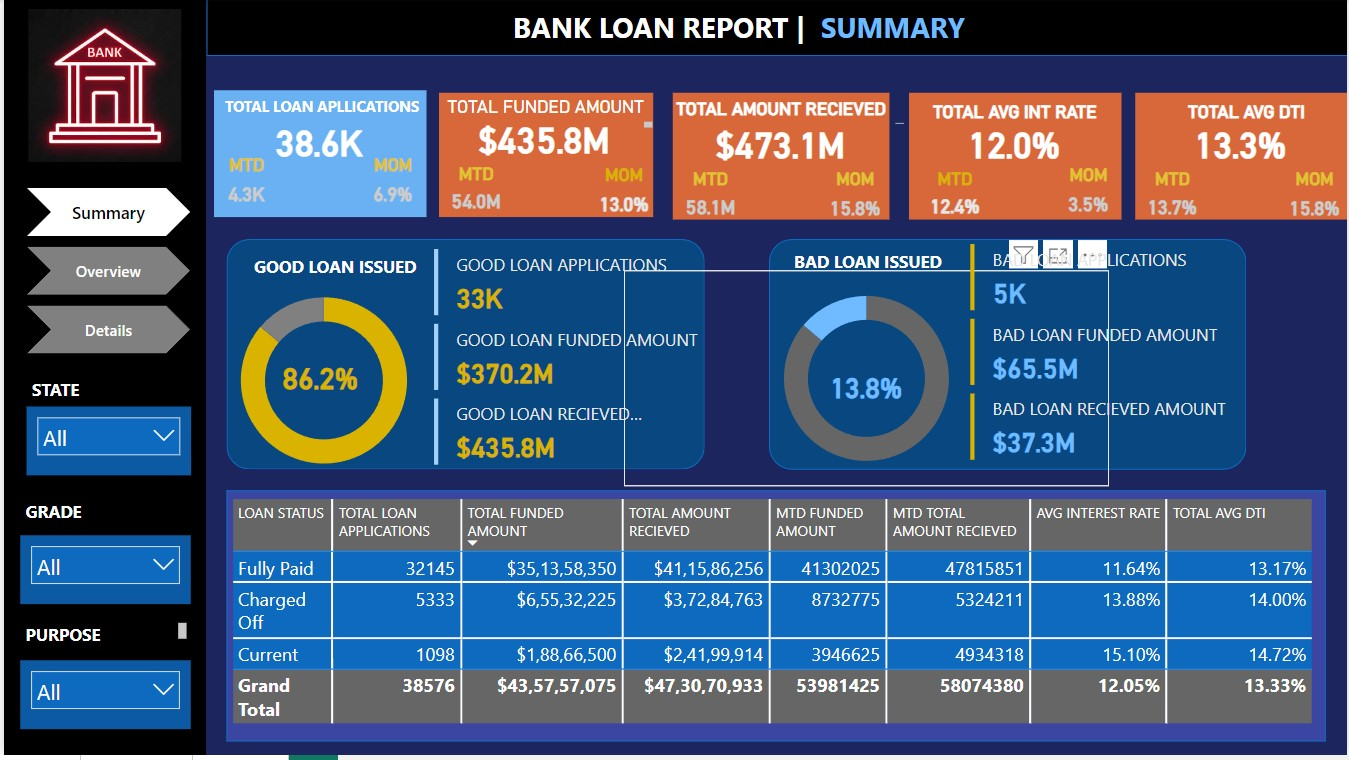

This screenshot's page, from the dashboard's own definition file:
{"tool":"powerbi","page":{"name":"Summary","canvas":[1280,720],"ordinal":0},"visuals":[{"type":"shape","box":[0,0,192.4,720.1],"z":0},{"type":"textbox","box":[199.5,87,202.6,120.6],"z":0,"group":"g2"},{"type":"textbox","box":[637.4,89.1,206.2,120.4],"z":0,"group":"g3"},{"type":"textbox","box":[862.1,89.1,202.6,120.6],"z":0,"group":"g8"},{"type":"textbox","box":[1077.4,89.1,202.6,120.6],"z":0,"group":"g5"},{"type":"textbox","box":[414.2,89.3,204.3,118.4],"z":0,"group":"g4"},{"type":"shape","box":[192.4,0,1087.9,54.3],"z":1000},{"type":"card","fields":{"Values":["financial_loan.Total funded amount"]},"box":[440.2,98.9,147.8,66.3],"z":1000,"group":"g4"},{"type":"card","fields":{"Values":["financial_loan.Total Loan Applications"]},"box":[230.9,102.6,138.3,65.1],"z":1000,"group":"g2"},{"type":"card","fields":{"Values":["financial_loan.TOTAL AMOUNT RECIEVED"]},"box":[669.3,104.6,140.7,65],"z":1000,"group":"g3"},{"type":"card","fields":{"Values":["financial_loan.AVG INTEREST RATE"]},"box":[893.5,104.7,138.3,65.1],"z":1000,"group":"g8"},{"type":"card","fields":{"Values":["financial_loan.TOTAL AVG DTI"]},"box":[1108.8,104.7,138.3,65.1],"z":1000,"group":"g5"},{"type":"card","fields":{"Values":["financial_loan.Good Loan %"]},"box":[248.7,332.8,107,56.3],"z":1000,"group":"g10"},{"type":"card","fields":{"Values":["financial_loan.Bad Loan %"]},"box":[763.4,337,113.7,65.8],"z":1000,"group":"g11"},{"type":"textbox","box":[480.3,4.1,488.5,46.7],"z":2000},{"type":"textbox","box":[196.1,88.6,212.7,31.6],"z":2000,"group":"g2"},{"type":"textbox","title":"TOTAL FUNDED  AMOUNT","box":[409.2,93.2,212.7,34.5],"z":2000,"group":"g4"},{"type":"textbox","title":"TOTAL  AMOUNT  RECIEVED","box":[617.9,93.7,244.3,30.1],"z":2000,"group":"g3"},{"type":"textbox","title":"TOTAL AVG INT RATE","box":[865,97.1,196.9,27.3],"z":2000,"group":"g8"},{"type":"textbox","title":" TOTAL AVG DTI","box":[1106.8,97.6,152.3,21.6],"z":2000,"group":"g5"},{"type":"group","id":"g1","title":"Group 1","box":[196.1,87,212.7,120.6],"z":3000},{"type":"card","title":"MTD","fields":{"Values":["financial_loan.MTD"]},"box":[205.2,147.8,49.9,59.4],"z":3000,"group":"g2"},{"type":"card","title":"MTD","fields":{"Values":["financial_loan.MTD FUNDED AMOUNT"]},"box":[412.2,155.6,73,54.9],"z":3000,"group":"g4"},{"type":"card","title":"MTD","fields":{"Values":["financial_loan.MTD TOTAL AMOUNT RECIEVED"]},"box":[641.8,160.8,62.4,56.9],"z":3000,"group":"g3"},{"type":"card","title":"MTD","fields":{"Values":["financial_loan.MTD AVG DTI"]},"box":[1081.8,161,61.3,57],"z":3000,"group":"g5"},{"type":"group","id":"g2","title":"Group 2","box":[196.1,87,212.7,120.6],"z":3001,"group":"g1"},{"type":"group","id":"g3","title":"Group 2","box":[617.9,89.1,244.3,130.8],"z":3001,"group":"g7"},{"type":"group","id":"g4","title":"Group 2","box":[409.2,89.3,212.7,121.2],"z":3001,"group":"g6"},{"type":"group","id":"g5","title":"Group 2","box":[1077.4,89.1,202.6,131],"z":4000},{"type":"card","title":"MOM","fields":{"Values":["financial_loan.MOM LOAN APPLICATIONS"]},"box":[344.9,147.8,49.9,59.4],"z":4000,"group":"g2"},{"type":"card","title":"MOM","fields":{"Values":["financial_loan.MOM AVG INT RATE"]},"box":[1001.6,156.4,63.2,58.9],"z":4000,"group":"g8"},{"type":"card","title":"MOM","fields":{"Values":["financial_loan.MOM TOTAL AMOUNT RECIEVED"]},"box":[778.8,160.3,64.2,59.6],"z":4000,"group":"g3"},{"type":"card","title":"MOM","fields":{"Values":["financial_loan.MOM TOTAL AMOUNT RECIEVED"]},"box":[1216.3,160.4,63.1,59.7],"z":4000,"group":"g5"},{"type":"group","id":"g6","title":"Group 1","box":[409.2,89.3,212.7,121.2],"z":5000},{"type":"group","id":"g7","title":"Group 1","box":[617.9,89.1,244.3,130.8],"z":6000},{"type":"shape","title":"GOOD LOAN ISSUED","box":[212.4,228.8,455.6,219.6],"z":6000,"group":"g9"},{"type":"card","title":"MOM","fields":{"Values":["financial_loan.MOM TOTAL FUNDED AMOUNT"]},"box":[555.9,157,69.1,59],"z":7000},{"type":"group","id":"g8","title":"Group 3","box":[862.1,89.1,202.6,126.4],"z":8000},{"type":"card","title":"MTD","fields":{"Values":["financial_loan.MTD INTEREST RATE"]},"box":[869.3,160.9,73.3,54.6],"z":8000,"group":"g8"},{"type":"shape","box":[728.4,228.8,454.7,219.9],"z":9000},{"type":"donutChart","fields":{"Category":["financial_loan.Good Vs Bad Loan"],"Y":["financial_loan.Total Loan Applications"]},"box":[74.4,259.6,462.2,207.9],"z":9750,"group":"g10"},{"type":"group","id":"g9","title":"Group 5","box":[212.4,228.8,454.7,219.9],"z":10000},{"type":"donutChart","fields":{"Category":["financial_loan.Good Vs Bad Loan"],"Y":["financial_loan.Total Loan Applications"]},"box":[590,258.4,462.2,206.4],"z":10000,"group":"g11"},{"type":"group","id":"g10","title":"Group 4","box":[74.4,259.6,462.2,207.9],"z":11000},{"type":"cardVisual","fields":{"Data":["financial_loan.GOOD LOAN APPLICATIONS","financial_loan.GOOD LOAN FUNDED AMOUNT","financial_loan.GOOD LOAN RECIEVED AMOUNT"]},"box":[405.3,233.3,267.7,215.4],"z":12000},{"type":"textbox","box":[222,238.4,188,41.2],"z":12000,"group":"g9"},{"type":"textbox","box":[728.4,233.3,188.5,41.9],"z":13000},{"type":"group","id":"g11","title":"Group 6","box":[590,258.4,462.2,206.4],"z":14000},{"type":"cardVisual","fields":{"Data":["financial_loan.BAD LOAN APPLICATIONS","financial_loan.BAD LOAN FUNDED AMOUNT","financial_loan.BAD LOAN RECIEVED AMOUNT"]},"box":[915.4,228.8,267.7,215.4],"z":15000},{"type":"shape","box":[212.4,468.1,1047,239.3],"z":16000},{"type":"tableEx","fields":{"Values":["financial_loan.loan_status","financial_loan.Total Loan Applications","financial_loan.Total funded amount","financial_loan.TOTAL AMOUNT RECIEVED","financial_loan.MTD FUNDED AMOUNT","financial_loan.MTD TOTAL AMOUNT RECIEVED","financial_loan.AVG INTEREST RATE","financial_loan.TOTAL AVG DTI"]},"box":[212.1,471.5,1046.8,236.5],"z":17000},{"type":"slicer","fields":{"Values":["financial_loan.address_state"]},"box":[21,388.6,156.5,65.7],"z":18000},{"type":"slicer","fields":{"Values":["financial_loan.grade"]},"box":[15.4,510.2,162.1,65.7],"z":19000},{"type":"slicer","fields":{"Values":["financial_loan.purpose"]},"box":[15.4,630.4,162.1,65.7],"z":20000},{"type":"textbox","box":[21,356.4,110.4,32.1],"z":21000},{"type":"textbox","box":[15.4,589.8,163.5,28],"z":22000},{"type":"image","box":[0,4.7,192.4,155.2],"z":23000},{"type":"textbox","box":[15.4,471,151,39.1],"z":24000},{"type":"pageNavigator","box":[21,180.3,156.5,159.3],"z":25000}]}

Visuals, with their boxes in screenshot pixels (x1, y1, x2, y2), scaled from the page's 1280x720 canvas onto the 1349x760 screenshot:
shape: pyautogui.locateOnScreen(0, 0, 203, 759)
textbox: pyautogui.locateOnScreen(210, 92, 424, 219)
textbox: pyautogui.locateOnScreen(672, 94, 889, 221)
textbox: pyautogui.locateOnScreen(909, 94, 1122, 221)
textbox: pyautogui.locateOnScreen(1135, 94, 1348, 221)
textbox: pyautogui.locateOnScreen(437, 94, 652, 219)
shape: pyautogui.locateOnScreen(203, 0, 1348, 57)
card - financial_loan.Total funded amount: pyautogui.locateOnScreen(464, 104, 620, 174)
card - financial_loan.Total Loan Applications: pyautogui.locateOnScreen(243, 108, 389, 177)
card - financial_loan.TOTAL AMOUNT RECIEVED: pyautogui.locateOnScreen(705, 110, 854, 179)
card - financial_loan.AVG INTEREST RATE: pyautogui.locateOnScreen(942, 111, 1087, 179)
card - financial_loan.TOTAL AVG DTI: pyautogui.locateOnScreen(1169, 111, 1314, 179)
card - financial_loan.Good Loan %: pyautogui.locateOnScreen(262, 351, 375, 411)
card - financial_loan.Bad Loan %: pyautogui.locateOnScreen(805, 356, 924, 425)
textbox: pyautogui.locateOnScreen(506, 4, 1021, 54)
textbox: pyautogui.locateOnScreen(207, 94, 431, 127)
"TOTAL FUNDED  AMOUNT" textbox: pyautogui.locateOnScreen(431, 98, 655, 135)
"TOTAL  AMOUNT  RECIEVED" textbox: pyautogui.locateOnScreen(651, 99, 909, 131)
"TOTAL AVG INT RATE" textbox: pyautogui.locateOnScreen(912, 102, 1119, 131)
" TOTAL AVG DTI" textbox: pyautogui.locateOnScreen(1166, 103, 1327, 126)
"Group 1" group: pyautogui.locateOnScreen(207, 92, 431, 219)
"MTD" card: pyautogui.locateOnScreen(216, 156, 269, 219)
"MTD" card: pyautogui.locateOnScreen(434, 164, 511, 222)
"MTD" card: pyautogui.locateOnScreen(676, 170, 742, 230)
"MTD" card: pyautogui.locateOnScreen(1140, 170, 1205, 230)
"Group 2" group: pyautogui.locateOnScreen(207, 92, 431, 219)
"Group 2" group: pyautogui.locateOnScreen(651, 94, 909, 232)
"Group 2" group: pyautogui.locateOnScreen(431, 94, 655, 222)
"Group 2" group: pyautogui.locateOnScreen(1135, 94, 1348, 232)
"MOM" card: pyautogui.locateOnScreen(363, 156, 416, 219)
"MOM" card: pyautogui.locateOnScreen(1056, 165, 1122, 227)
"MOM" card: pyautogui.locateOnScreen(821, 169, 888, 232)
"MOM" card: pyautogui.locateOnScreen(1282, 169, 1348, 232)
"Group 1" group: pyautogui.locateOnScreen(431, 94, 655, 222)
"Group 1" group: pyautogui.locateOnScreen(651, 94, 909, 232)
"GOOD LOAN ISSUED" shape: pyautogui.locateOnScreen(224, 242, 704, 473)
"MOM" card: pyautogui.locateOnScreen(586, 166, 659, 228)
"Group 3" group: pyautogui.locateOnScreen(909, 94, 1122, 227)
"MTD" card: pyautogui.locateOnScreen(916, 170, 993, 227)
shape: pyautogui.locateOnScreen(768, 242, 1247, 474)
donutChart - financial_loan.Good Vs Bad Loan x financial_loan.Total Loan Applications: pyautogui.locateOnScreen(78, 274, 566, 493)
"Group 5" group: pyautogui.locateOnScreen(224, 242, 703, 474)
donutChart - financial_loan.Good Vs Bad Loan x financial_loan.Total Loan Applications: pyautogui.locateOnScreen(622, 273, 1109, 491)
"Group 4" group: pyautogui.locateOnScreen(78, 274, 566, 493)
cardVisual - financial_loan.GOOD LOAN APPLICATIONS x financial_loan.GOOD LOAN FUNDED AMOUNT: pyautogui.locateOnScreen(427, 246, 709, 474)
textbox: pyautogui.locateOnScreen(234, 252, 432, 295)
textbox: pyautogui.locateOnScreen(768, 246, 966, 290)
"Group 6" group: pyautogui.locateOnScreen(622, 273, 1109, 491)
cardVisual - financial_loan.BAD LOAN APPLICATIONS x financial_loan.BAD LOAN FUNDED AMOUNT: pyautogui.locateOnScreen(965, 242, 1247, 469)
shape: pyautogui.locateOnScreen(224, 494, 1327, 747)
tableEx - financial_loan.loan_status x financial_loan.Total Loan Applications: pyautogui.locateOnScreen(224, 498, 1327, 747)
slicer - financial_loan.address_state: pyautogui.locateOnScreen(22, 410, 187, 480)
slicer - financial_loan.grade: pyautogui.locateOnScreen(16, 539, 187, 608)
slicer - financial_loan.purpose: pyautogui.locateOnScreen(16, 665, 187, 735)
textbox: pyautogui.locateOnScreen(22, 376, 138, 410)
textbox: pyautogui.locateOnScreen(16, 623, 189, 652)
image: pyautogui.locateOnScreen(0, 5, 203, 169)
textbox: pyautogui.locateOnScreen(16, 497, 175, 538)
pageNavigator: pyautogui.locateOnScreen(22, 190, 187, 358)
